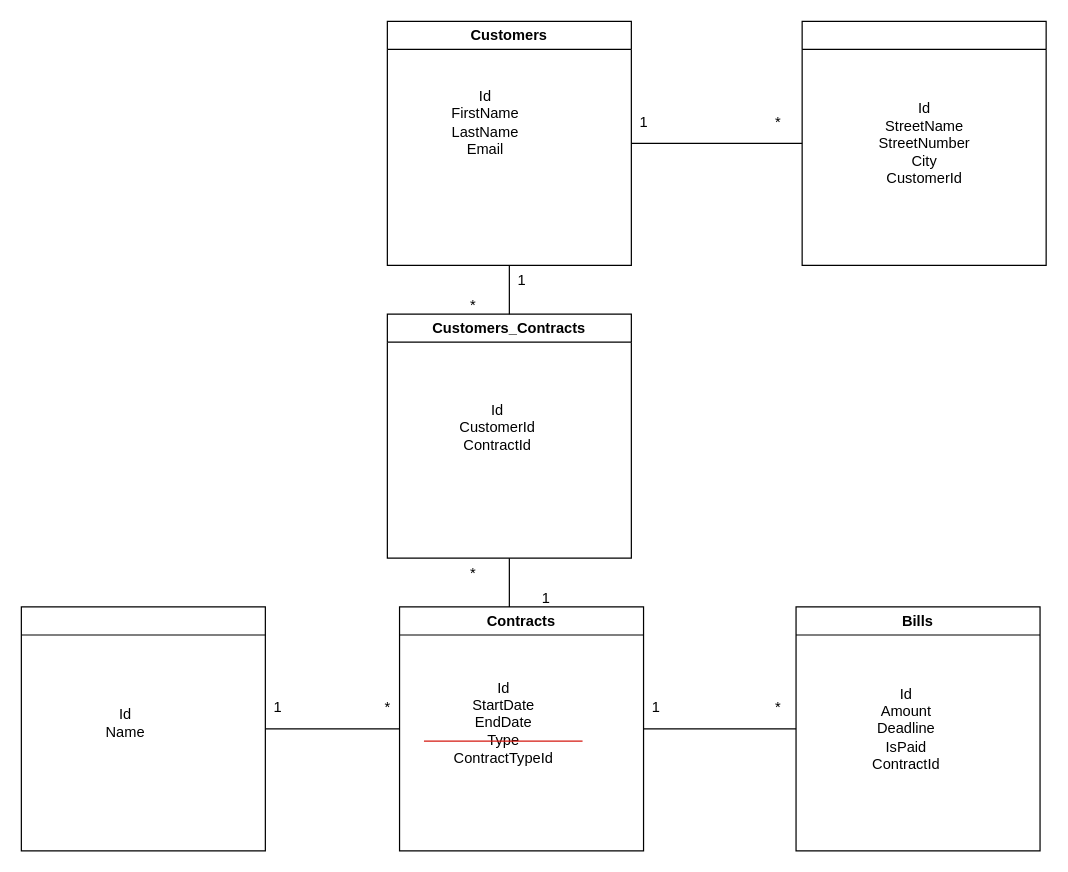
The diagram is 1068 pixels wide and 872 high, and some of its shapes have lost their labels. Here are the shapes that lost their labels. From the top down, the box of each, then its label:
(801, 20, 1046, 265): Addresses
(20, 606, 265, 851): ContractTypes
